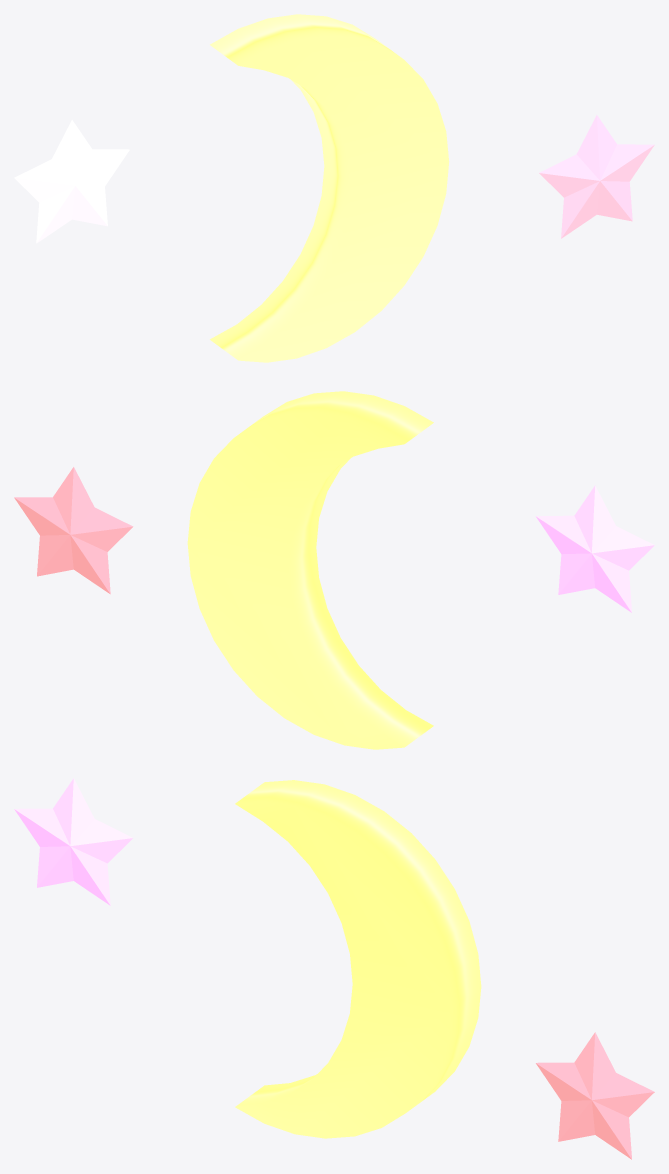
The model's file is moon_and_star.glb.
The picture shows the model from 3 angles, top to bottom: view 1: azimuth 30°, elevation 25°; view 2: azimuth 150°, elevation 25°; view 3: azimuth 330°, elevation 25°; orthographic projection. The views are drawn at different scales.
Visible parts, largest first — view 1: Cylinder.001, Circle.001, Circle; view 2: Cylinder.001, Circle.001, Circle; view 3: Cylinder.001, Circle.001, Circle.
Part boxes in pixels (x1,y1,x2,y2): Cylinder.001: (210, 14, 449, 362); Circle.001: (539, 115, 654, 238); Circle: (14, 120, 129, 243); Cylinder.001: (187, 391, 433, 749); Circle.001: (14, 467, 133, 594); Circle: (535, 485, 654, 612); Cylinder.001: (235, 780, 481, 1138); Circle.001: (536, 1032, 654, 1159); Circle: (14, 778, 132, 905).
Size of the model in its own units: 4.15 by 2 by 0.4118.
